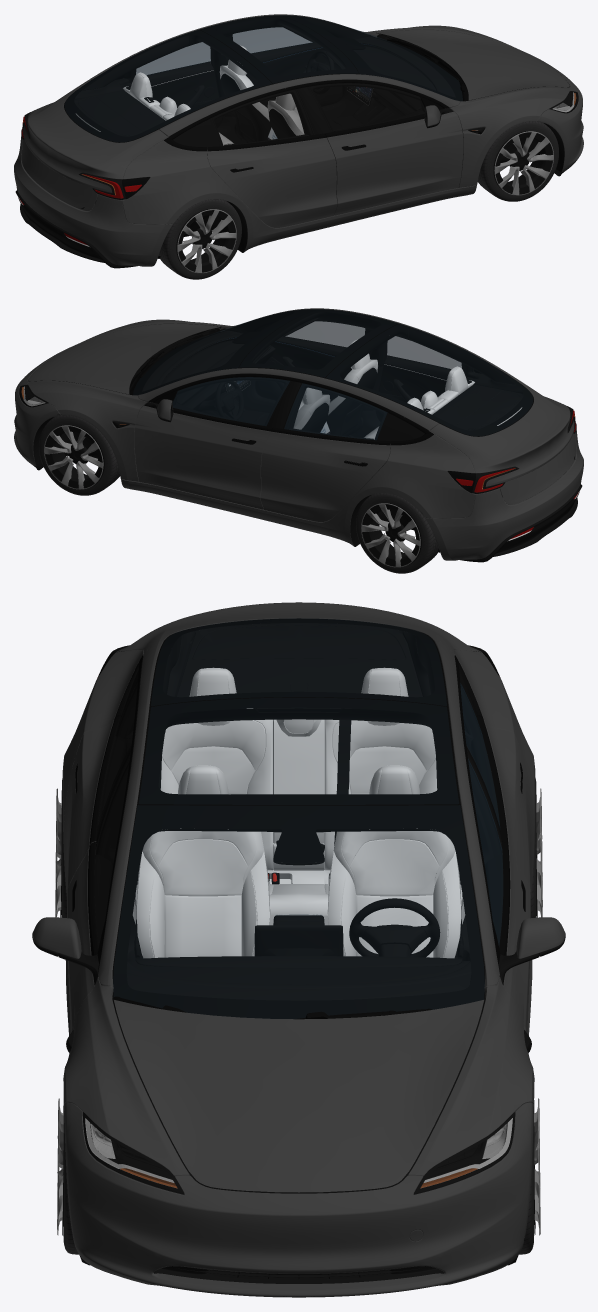
The model's file is car.glb.
The picture shows the model from 3 angles, top to bottom: view 1: azimuth 30°, elevation 25°; view 2: azimuth 150°, elevation 25°; view 3: azimuth 270°, elevation 25°; orthographic projection. The views are drawn at different scales.
Parts seen in each view (by area): view 1: body-shell-9, glazing-rear, door-fr-9, body-shell-11, body-shell-4, door-rr-9, body-shell-12, glazing-roof, hood-9, glazing-windshield, door-fr-7, door-rr-7 (+20 smaller); view 2: body-shell-9, glazing-rear, body-shell-12, door-fl-9, body-shell-4, door-rl-9, body-shell-11, glazing-roof, hood-9, glazing-windshield, door-fl-5, door-rl-5 (+20 smaller); view 3: body-shell-9, glazing-windshield, hood-9, body-shell-4, glazing-roof, seat-front-16, body-shell-12, seat-rear-16, glazing-rear, body-shell-11, dashboard-12, dashboard-11 (+19 smaller).
Part boxes in pixels (x1,y1,x2,y2): body-shell-9: (14, 14, 583, 266); glazing-rear: (65, 30, 271, 141); door-fr-9: (327, 105, 463, 215); body-shell-11: (15, 34, 578, 268); body-shell-4: (29, 15, 468, 198); door-rr-9: (207, 137, 337, 227); body-shell-12: (74, 17, 436, 208); glazing-roof: (200, 15, 358, 83); hood-9: (377, 29, 569, 100); glazing-windshield: (281, 15, 462, 100); door-fr-7: (308, 83, 425, 131); door-rr-7: (210, 89, 313, 146); body-shell-9: (14, 308, 583, 560); glazing-rear: (326, 324, 532, 435); body-shell-12: (161, 311, 575, 497); door-fl-9: (134, 399, 270, 509); body-shell-4: (129, 309, 567, 492); door-rl-9: (260, 431, 390, 521); body-shell-11: (19, 325, 582, 562); glazing-roof: (239, 309, 397, 377); hood-9: (28, 323, 220, 394); glazing-windshield: (133, 309, 316, 394); door-fl-5: (172, 377, 289, 425); door-rl-5: (284, 383, 387, 440); body-shell-9: (62, 602, 535, 1297); glazing-windshield: (113, 805, 484, 1018); hood-9: (114, 1000, 483, 1192); body-shell-4: (97, 618, 500, 1019); glazing-roof: (139, 698, 458, 804); seat-front-16: (136, 765, 461, 958); body-shell-12: (104, 623, 501, 984); seat-rear-16: (132, 667, 465, 925); glazing-rear: (151, 618, 446, 705); body-shell-11: (66, 631, 533, 1283); dashboard-12: (128, 956, 469, 1000); dashboard-11: (126, 961, 471, 1000).
Size of the model in its own units: 4.72 by 1.41 by 2.09.
17 materials, 3 textured.
